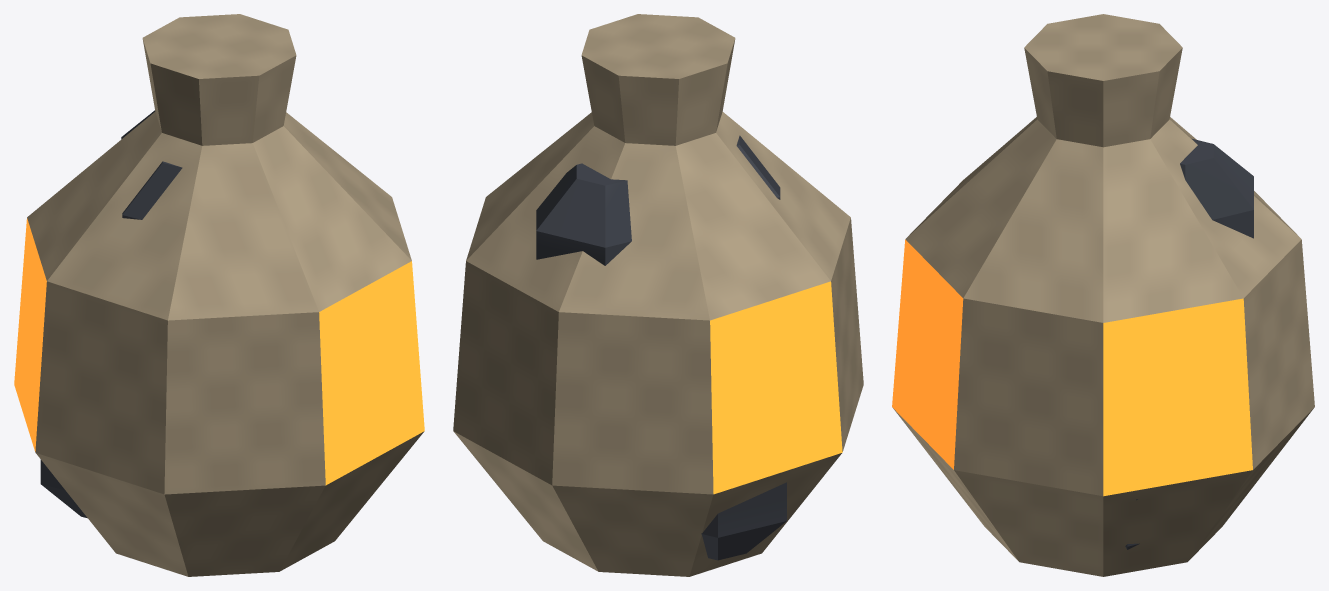
The model's file is SM_Prop_Grapeshot_HQ.glb.
The picture shows the model from 3 angles, left to right: view 1: azimuth 30°, elevation 25°; view 2: azimuth 150°, elevation 25°; view 3: azimuth 270°, elevation 25°; orthographic projection.
Parts seen in each view (by area): view 1: SM_Prop_Grapeshot_HQ; view 2: SM_Prop_Grapeshot_HQ; view 3: SM_Prop_Grapeshot_HQ.
Boxes of the visible parts, bbox=[...] form: SM_Prop_Grapeshot_HQ: bbox=[14, 14, 424, 576]; SM_Prop_Grapeshot_HQ: bbox=[453, 14, 863, 576]; SM_Prop_Grapeshot_HQ: bbox=[892, 14, 1314, 576].
Size of the model in its own units: 0.32 by 0.4018 by 0.32.
Materials: 1 (1 with a texture image).
